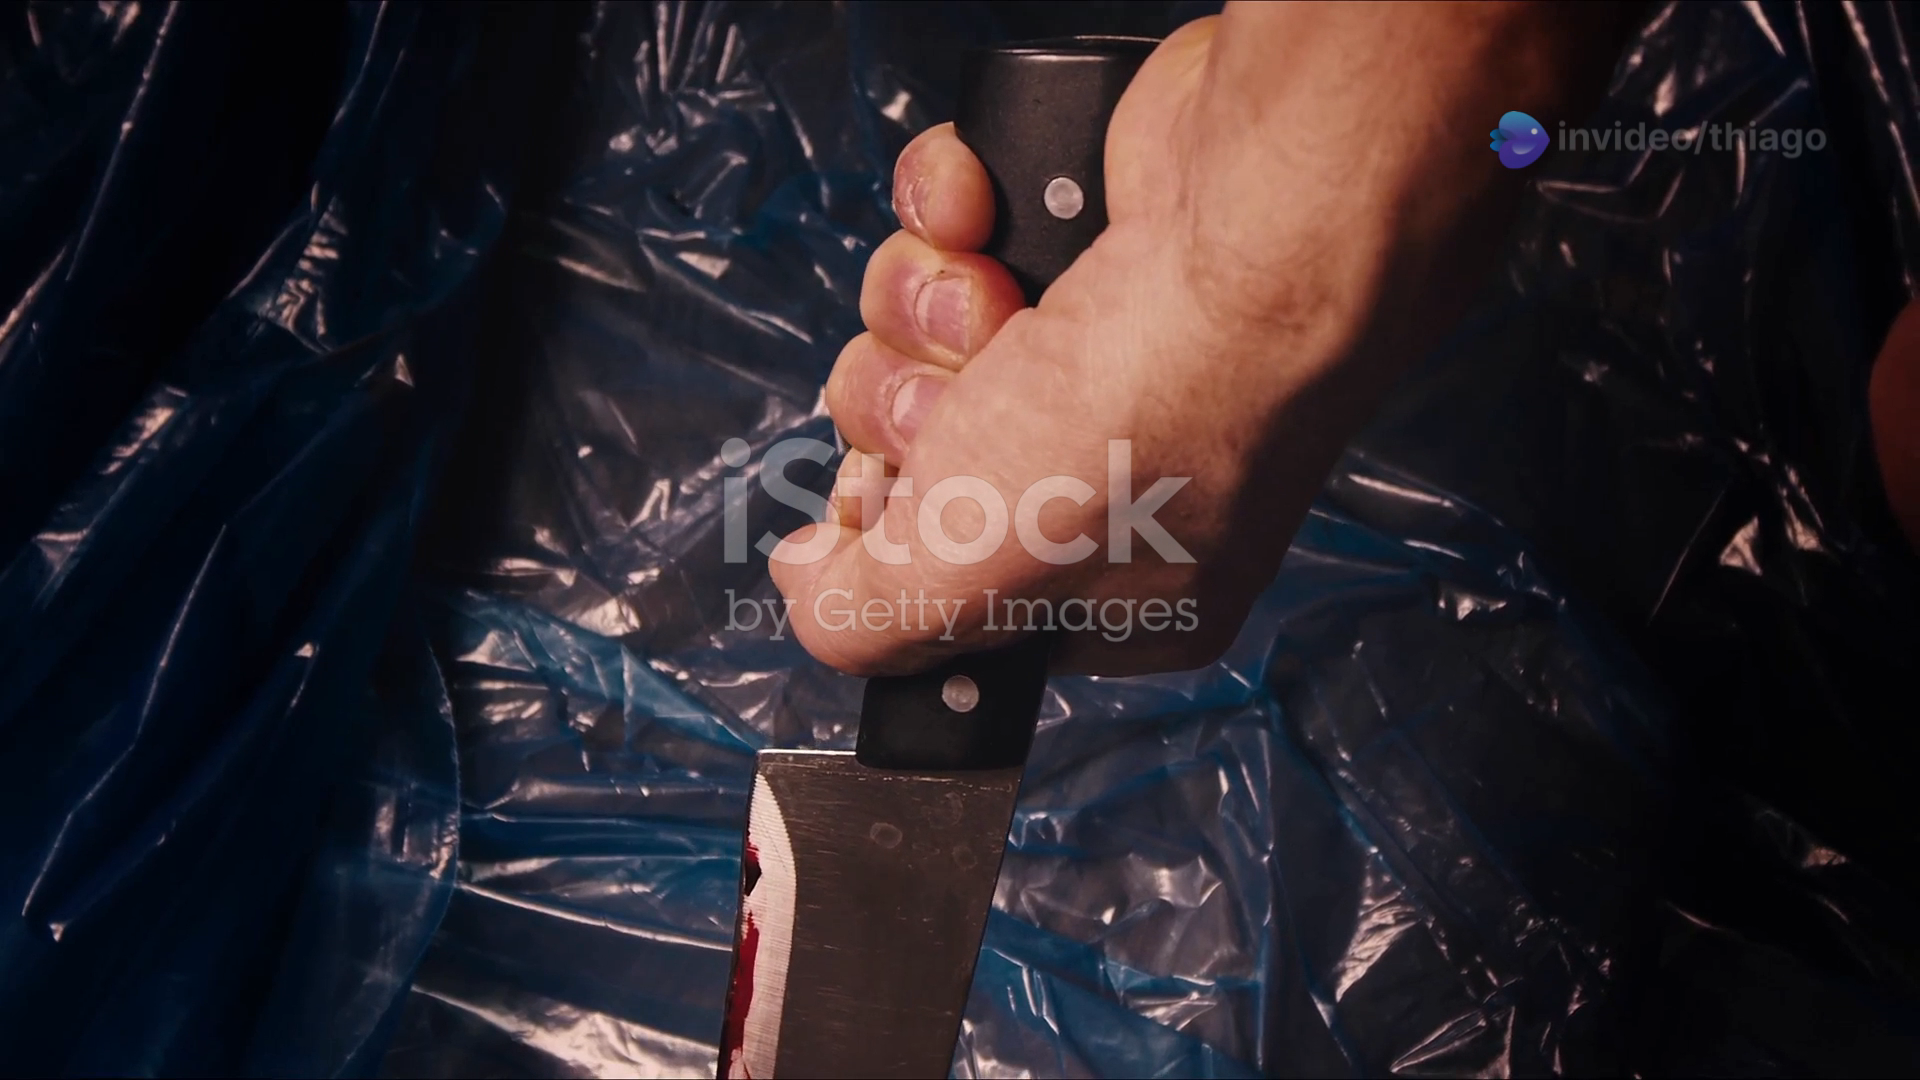cortante: (713, 746, 1031, 1080)
